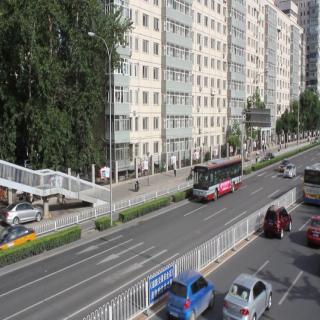Car: (165, 273, 217, 318), (196, 159, 250, 200), (231, 273, 262, 320), (262, 200, 296, 242), (6, 199, 50, 222), (0, 221, 40, 243), (303, 201, 320, 248), (288, 160, 297, 188)
